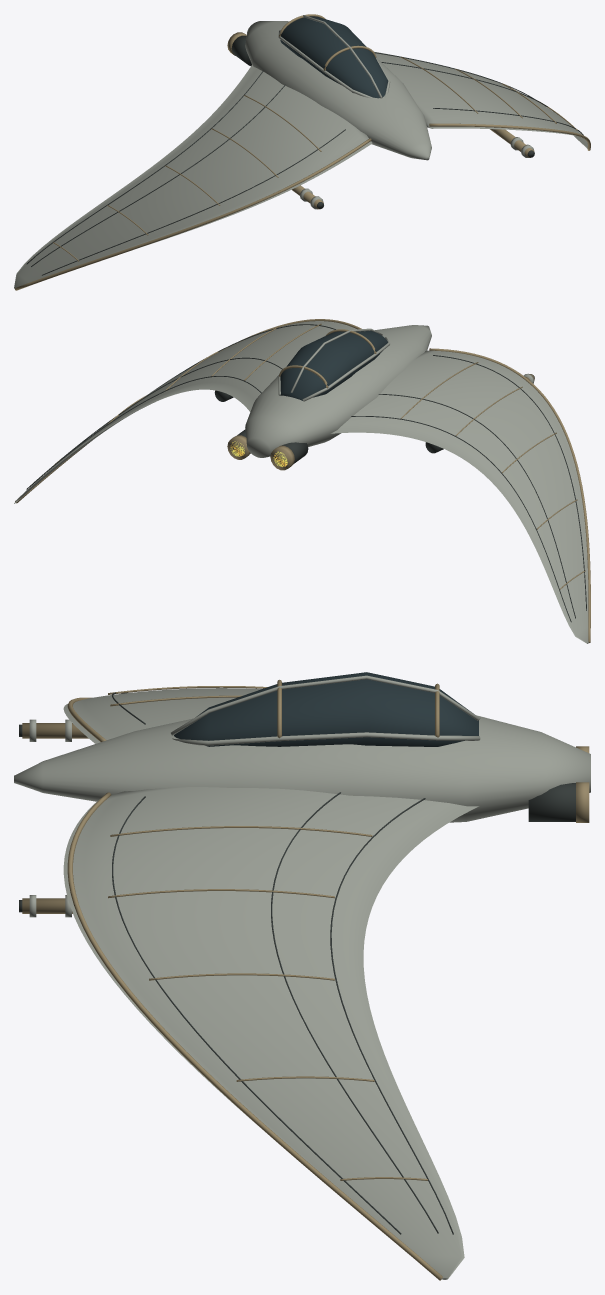
The model's file is death-glider.glb.
3 views of the same model, one above another, from view 1: azimuth 30°, elevation 25°; view 2: azimuth 150°, elevation 25°; view 3: azimuth 270°, elevation 25° (orthographic). The views are drawn at different scales.
Visible parts, largest first — view 1: GliderBenchmark; view 2: GliderBenchmark; view 3: GliderBenchmark.
Part boxes in pixels (x1=…): GliderBenchmark: x1=14, y1=14, x2=590, y2=290; GliderBenchmark: x1=14, y1=319, x2=590, y2=643; GliderBenchmark: x1=14, y1=672, x2=590, y2=1280.
Size of the model in its own units: 13.66 by 4.87 by 6.95.
